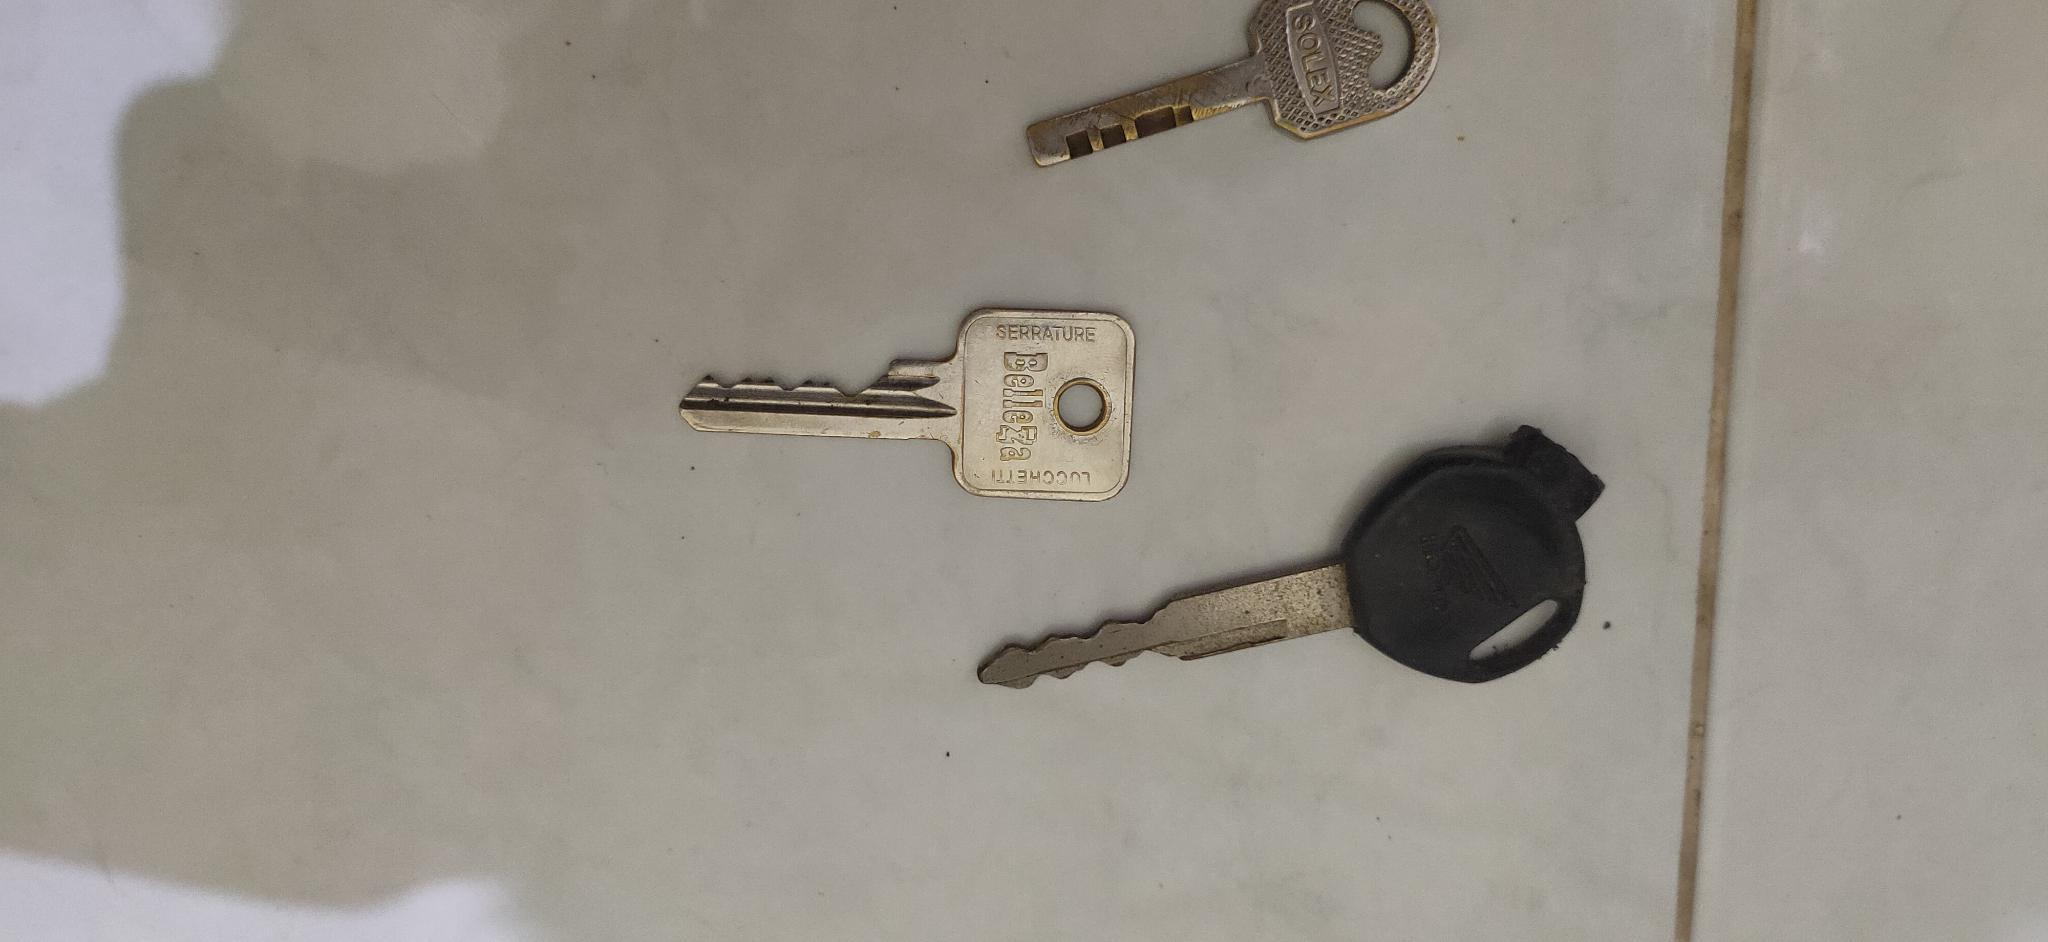keys: (973, 423, 1617, 709), (654, 300, 1147, 524), (1008, 1, 1446, 176)
